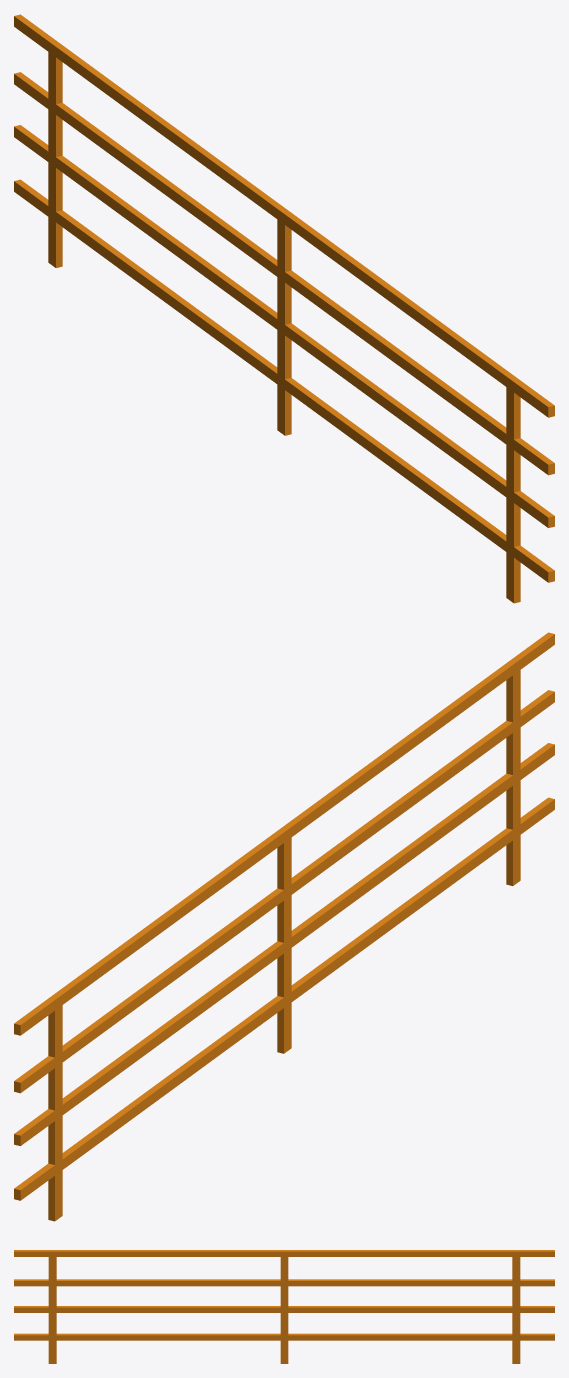
The model's file is setup railing.fbx.
The picture shows the model from 3 angles, top to bottom: view 1: azimuth 30°, elevation 25°; view 2: azimuth 150°, elevation 25°; view 3: azimuth 270°, elevation 25°; orthographic projection. The views are drawn at different scales.
Parts seen in each view (by area): view 1: Cube.005, Cube.004, Cube.003, Cube.006, Cube, Cube.002, Cube.001; view 2: Cube.005, Cube.003, Cube.004, Cube.006, Cube.002, Cube, Cube.001; view 3: Cube.006, Cube.003, Cube.005, Cube.004, Cube, Cube.001, Cube.002.
Part boxes in pixels (bbox=[...]): Cube.005: bbox=[14, 14, 554, 417]; Cube.004: bbox=[14, 125, 554, 527]; Cube.003: bbox=[14, 72, 554, 475]; Cube.006: bbox=[14, 179, 554, 582]; Cube: bbox=[506, 386, 520, 603]; Cube.002: bbox=[48, 51, 62, 267]; Cube.001: bbox=[277, 219, 291, 435]; Cube.005: bbox=[14, 632, 554, 1035]; Cube.003: bbox=[14, 690, 554, 1093]; Cube.004: bbox=[14, 743, 554, 1145]; Cube.006: bbox=[14, 797, 554, 1200]; Cube.002: bbox=[48, 1004, 62, 1221]; Cube: bbox=[506, 670, 520, 885]; Cube.001: bbox=[277, 837, 291, 1053]; Cube.006: bbox=[14, 1333, 554, 1340]; Cube.003: bbox=[14, 1279, 554, 1286]; Cube.005: bbox=[14, 1250, 554, 1256]; Cube.004: bbox=[14, 1306, 554, 1312]; Cube: bbox=[48, 1256, 56, 1363]; Cube.001: bbox=[280, 1256, 288, 1363]; Cube.002: bbox=[512, 1256, 520, 1363].
Bounding box in the file's own units: 10 × 320 × 1400.
